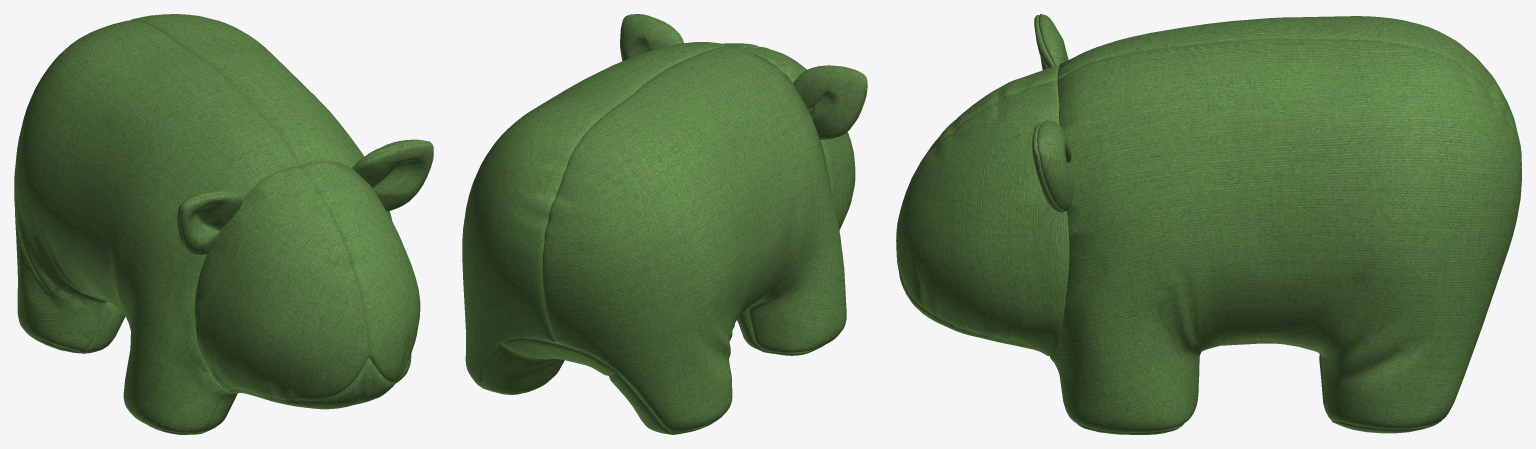
Rendered from Wombat_Plush_Toy.glb.
3 renders of one model, left to right at view 1: azimuth 30°, elevation 25°; view 2: azimuth 150°, elevation 25°; view 3: azimuth 270°, elevation 25°, orthographic. The views are drawn at different scales.
Visible parts, largest first — view 1: BP_Wombat_Plush_Toy; view 2: BP_Wombat_Plush_Toy; view 3: BP_Wombat_Plush_Toy.
Boxes of the visible parts, box(x1,y1,x2,y2) form: BP_Wombat_Plush_Toy: box(14, 14, 433, 434); BP_Wombat_Plush_Toy: box(462, 14, 867, 434); BP_Wombat_Plush_Toy: box(896, 14, 1521, 434).
Size of the model in its own units: 0.2218 by 0.231 by 0.3866.
1 material, 1 textured.
